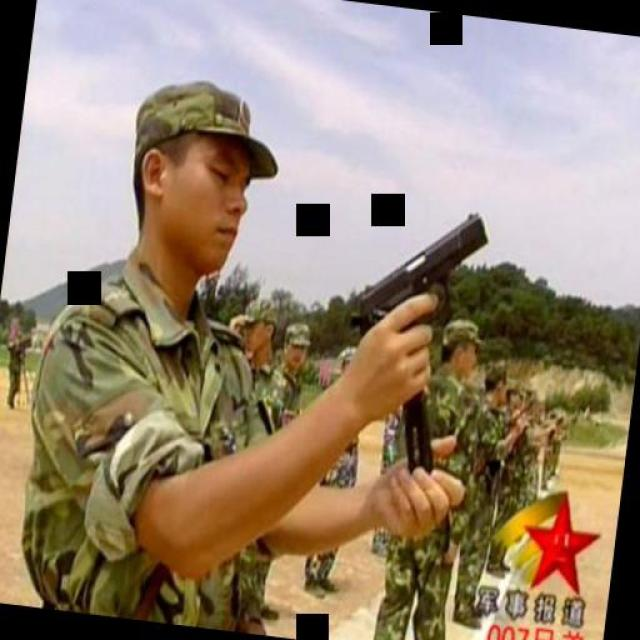gun: (338, 195, 494, 409)
